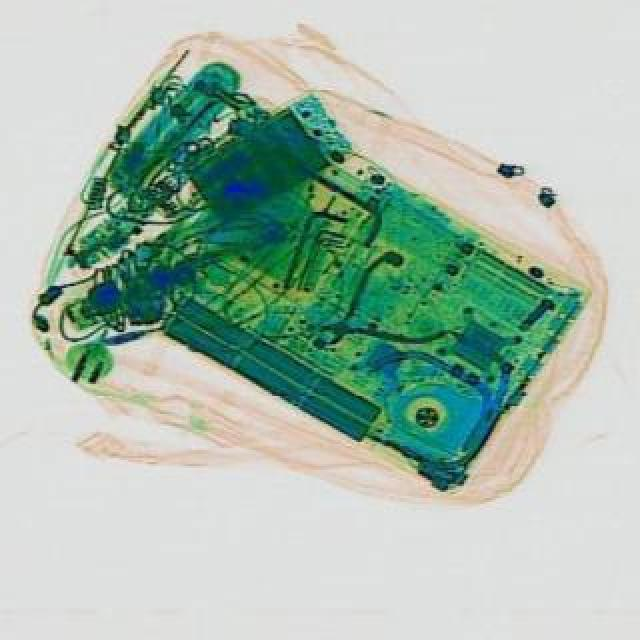wrench: (296, 244, 446, 376)
